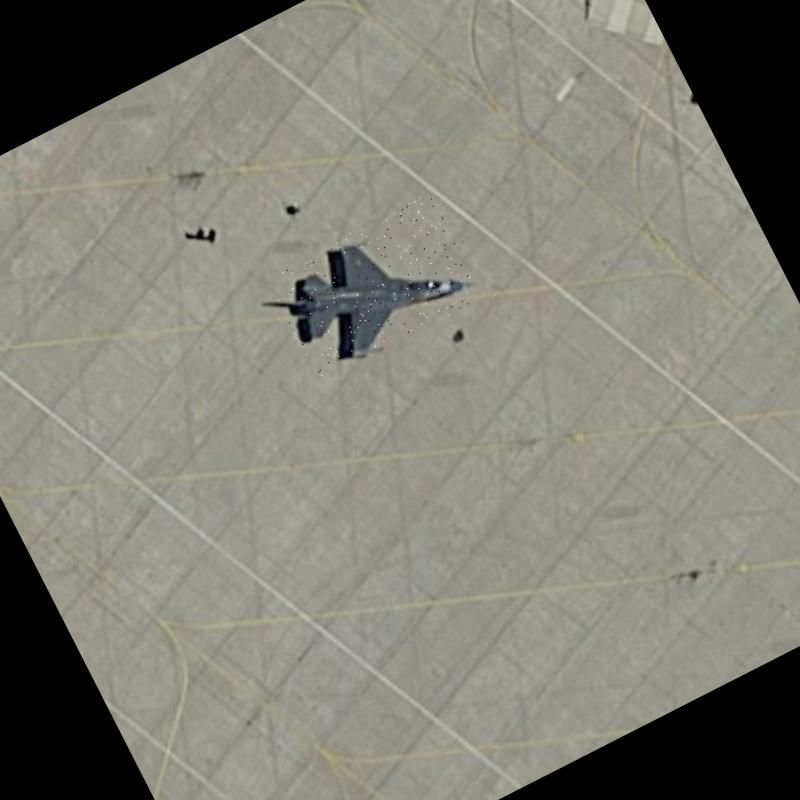A5: (264, 190, 483, 381)
